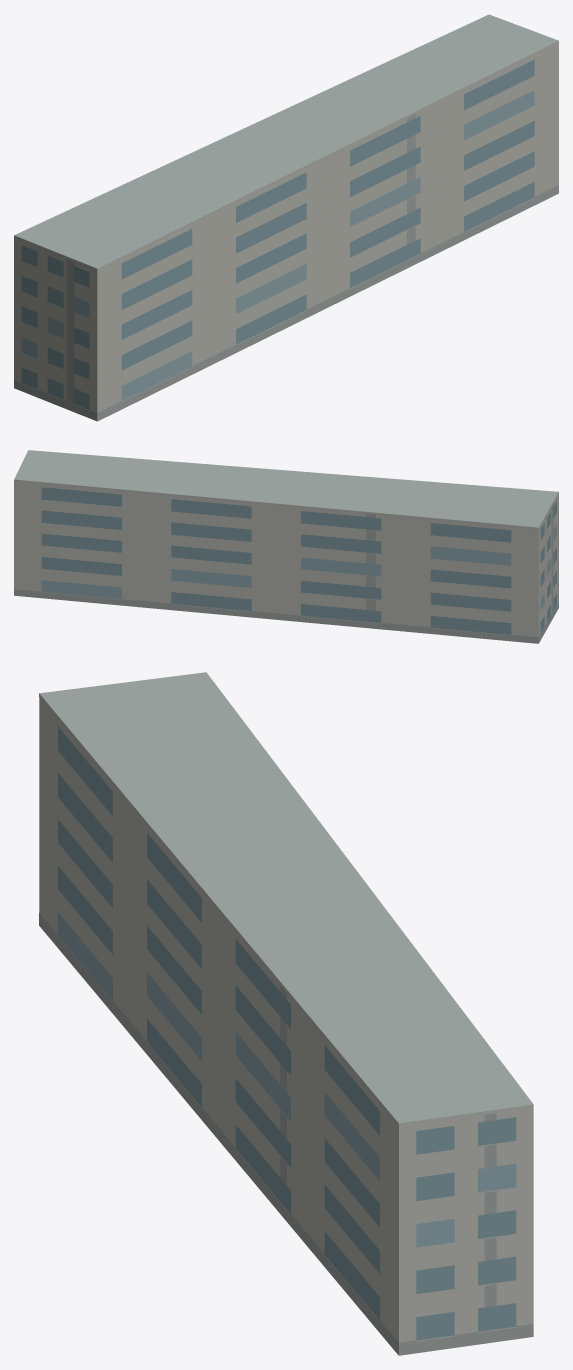
File: survey-upis-32766756.glb
3 views of the same model, one above another, from view 1: azimuth 30°, elevation 25°; view 2: azimuth 150°, elevation 25°; view 3: azimuth 270°, elevation 25° (orthographic). The views are drawn at different scales.
Visible parts, largest first — view 1: survey-upis-32766756.tmp; view 2: survey-upis-32766756.tmp; view 3: survey-upis-32766756.tmp.
Part boxes in pixels (x1=…): survey-upis-32766756.tmp: x1=14, y1=14, x2=558, y2=421; survey-upis-32766756.tmp: x1=14, y1=450, x2=558, y2=643; survey-upis-32766756.tmp: x1=39, y1=672, x2=533, y2=1355.
Size of the model in its own units: 63.51 by 15.25 by 29.42.
